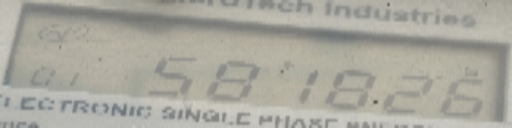1: (287, 59, 320, 106)
2: (388, 62, 430, 116)
5: (149, 44, 196, 101)
6: (439, 65, 486, 119)
8: (195, 40, 265, 104), (321, 59, 376, 113)
d: (368, 95, 384, 109)
